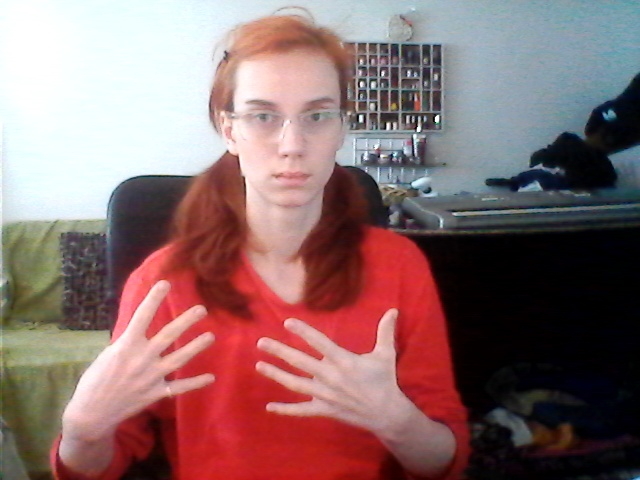devat: (75, 275, 403, 439)
